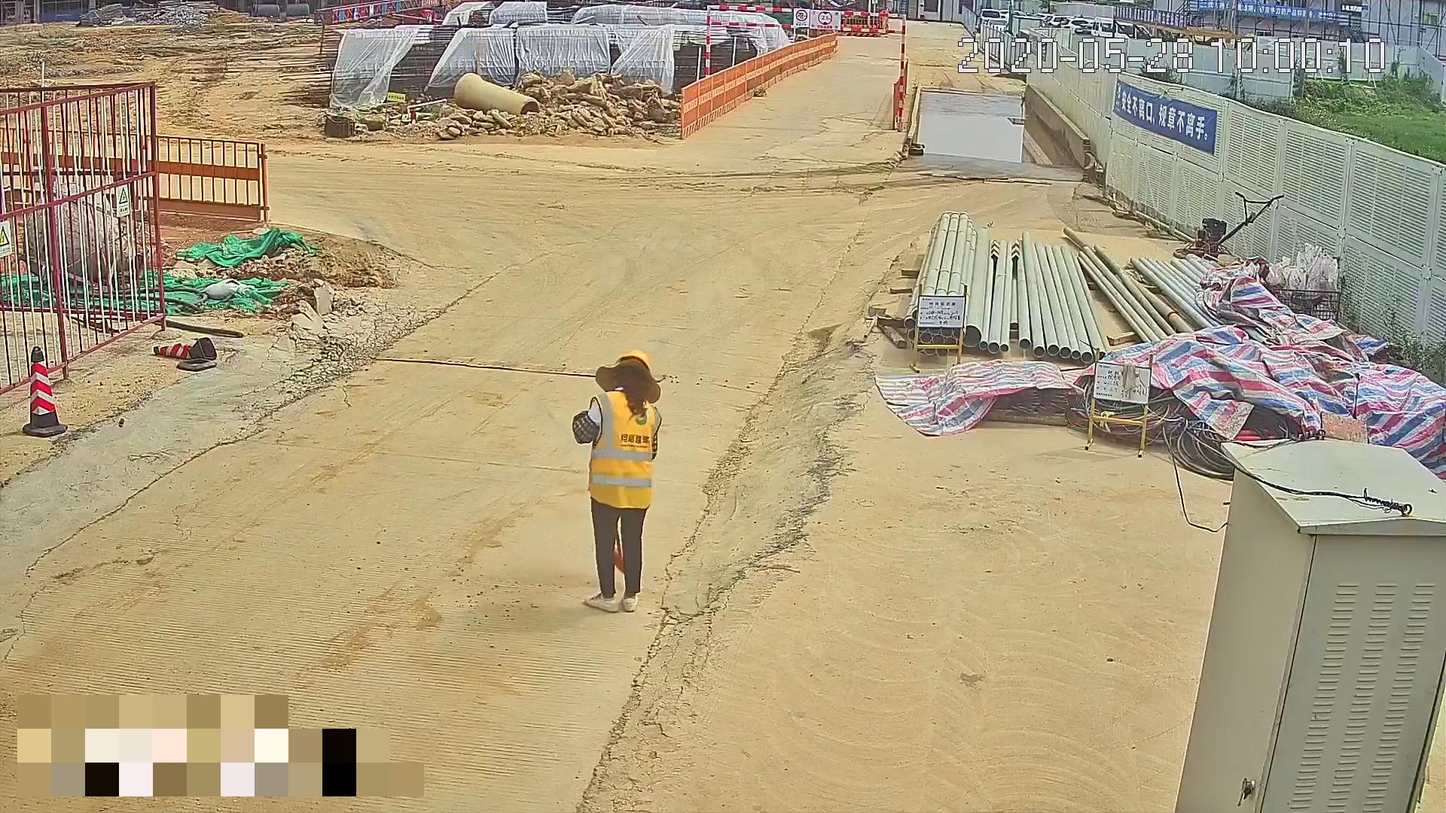hat: (612, 351, 651, 397)
person: (570, 349, 664, 615)
